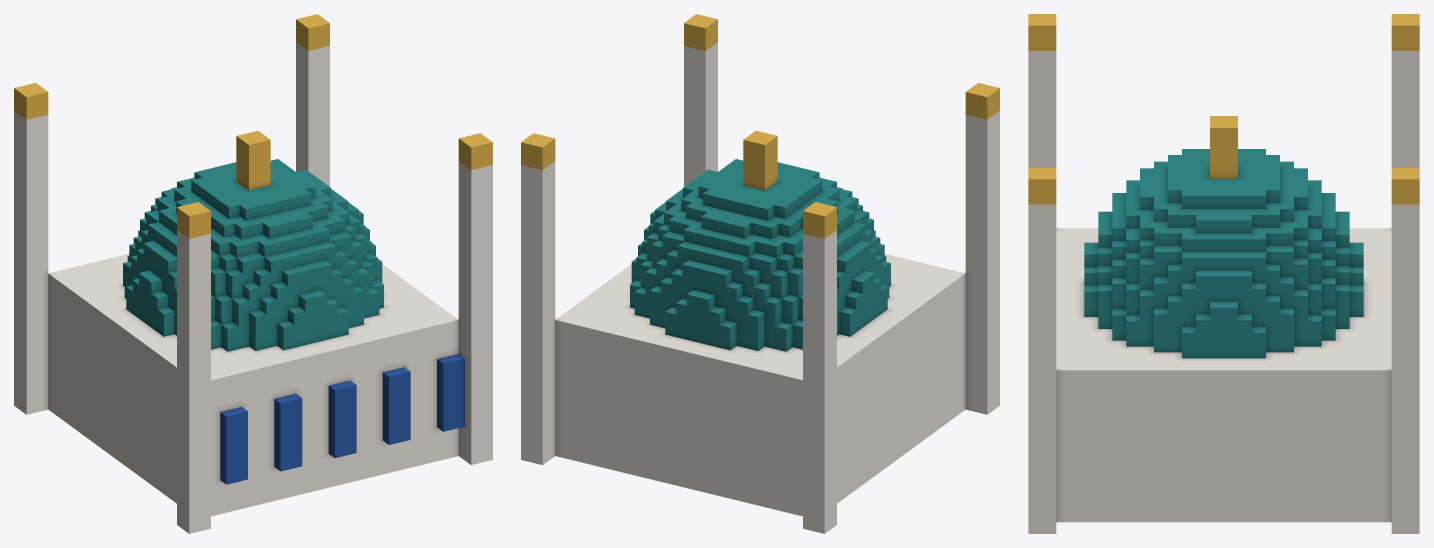
The model's file is w_dome.glb.
The picture shows the model from 3 angles, left to right: view 1: azimuth 30°, elevation 25°; view 2: azimuth 150°, elevation 25°; view 3: azimuth 270°, elevation 25°; orthographic projection. The views are drawn at different scales.
Parts seen in each view (by area): view 1: w_dome_body; view 2: w_dome_body; view 3: w_dome_body.
Boxes of the visible parts, x1=… form: w_dome_body: x1=14, y1=14, x2=492, y2=533; w_dome_body: x1=521, y1=14, x2=999, y2=533; w_dome_body: x1=1028, y1=14, x2=1419, y2=533.
Size of the model in its own units: 1.75 by 1.75 by 1.75.
1 material, 1 textured.
